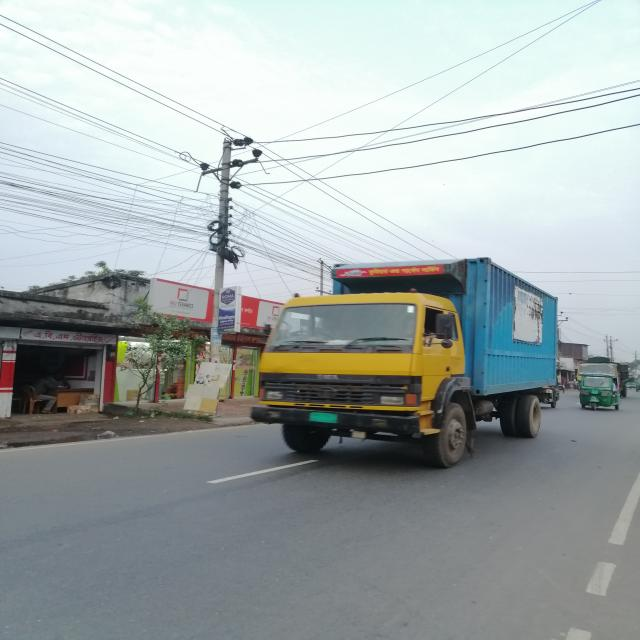Truck: (249, 256, 574, 475)
